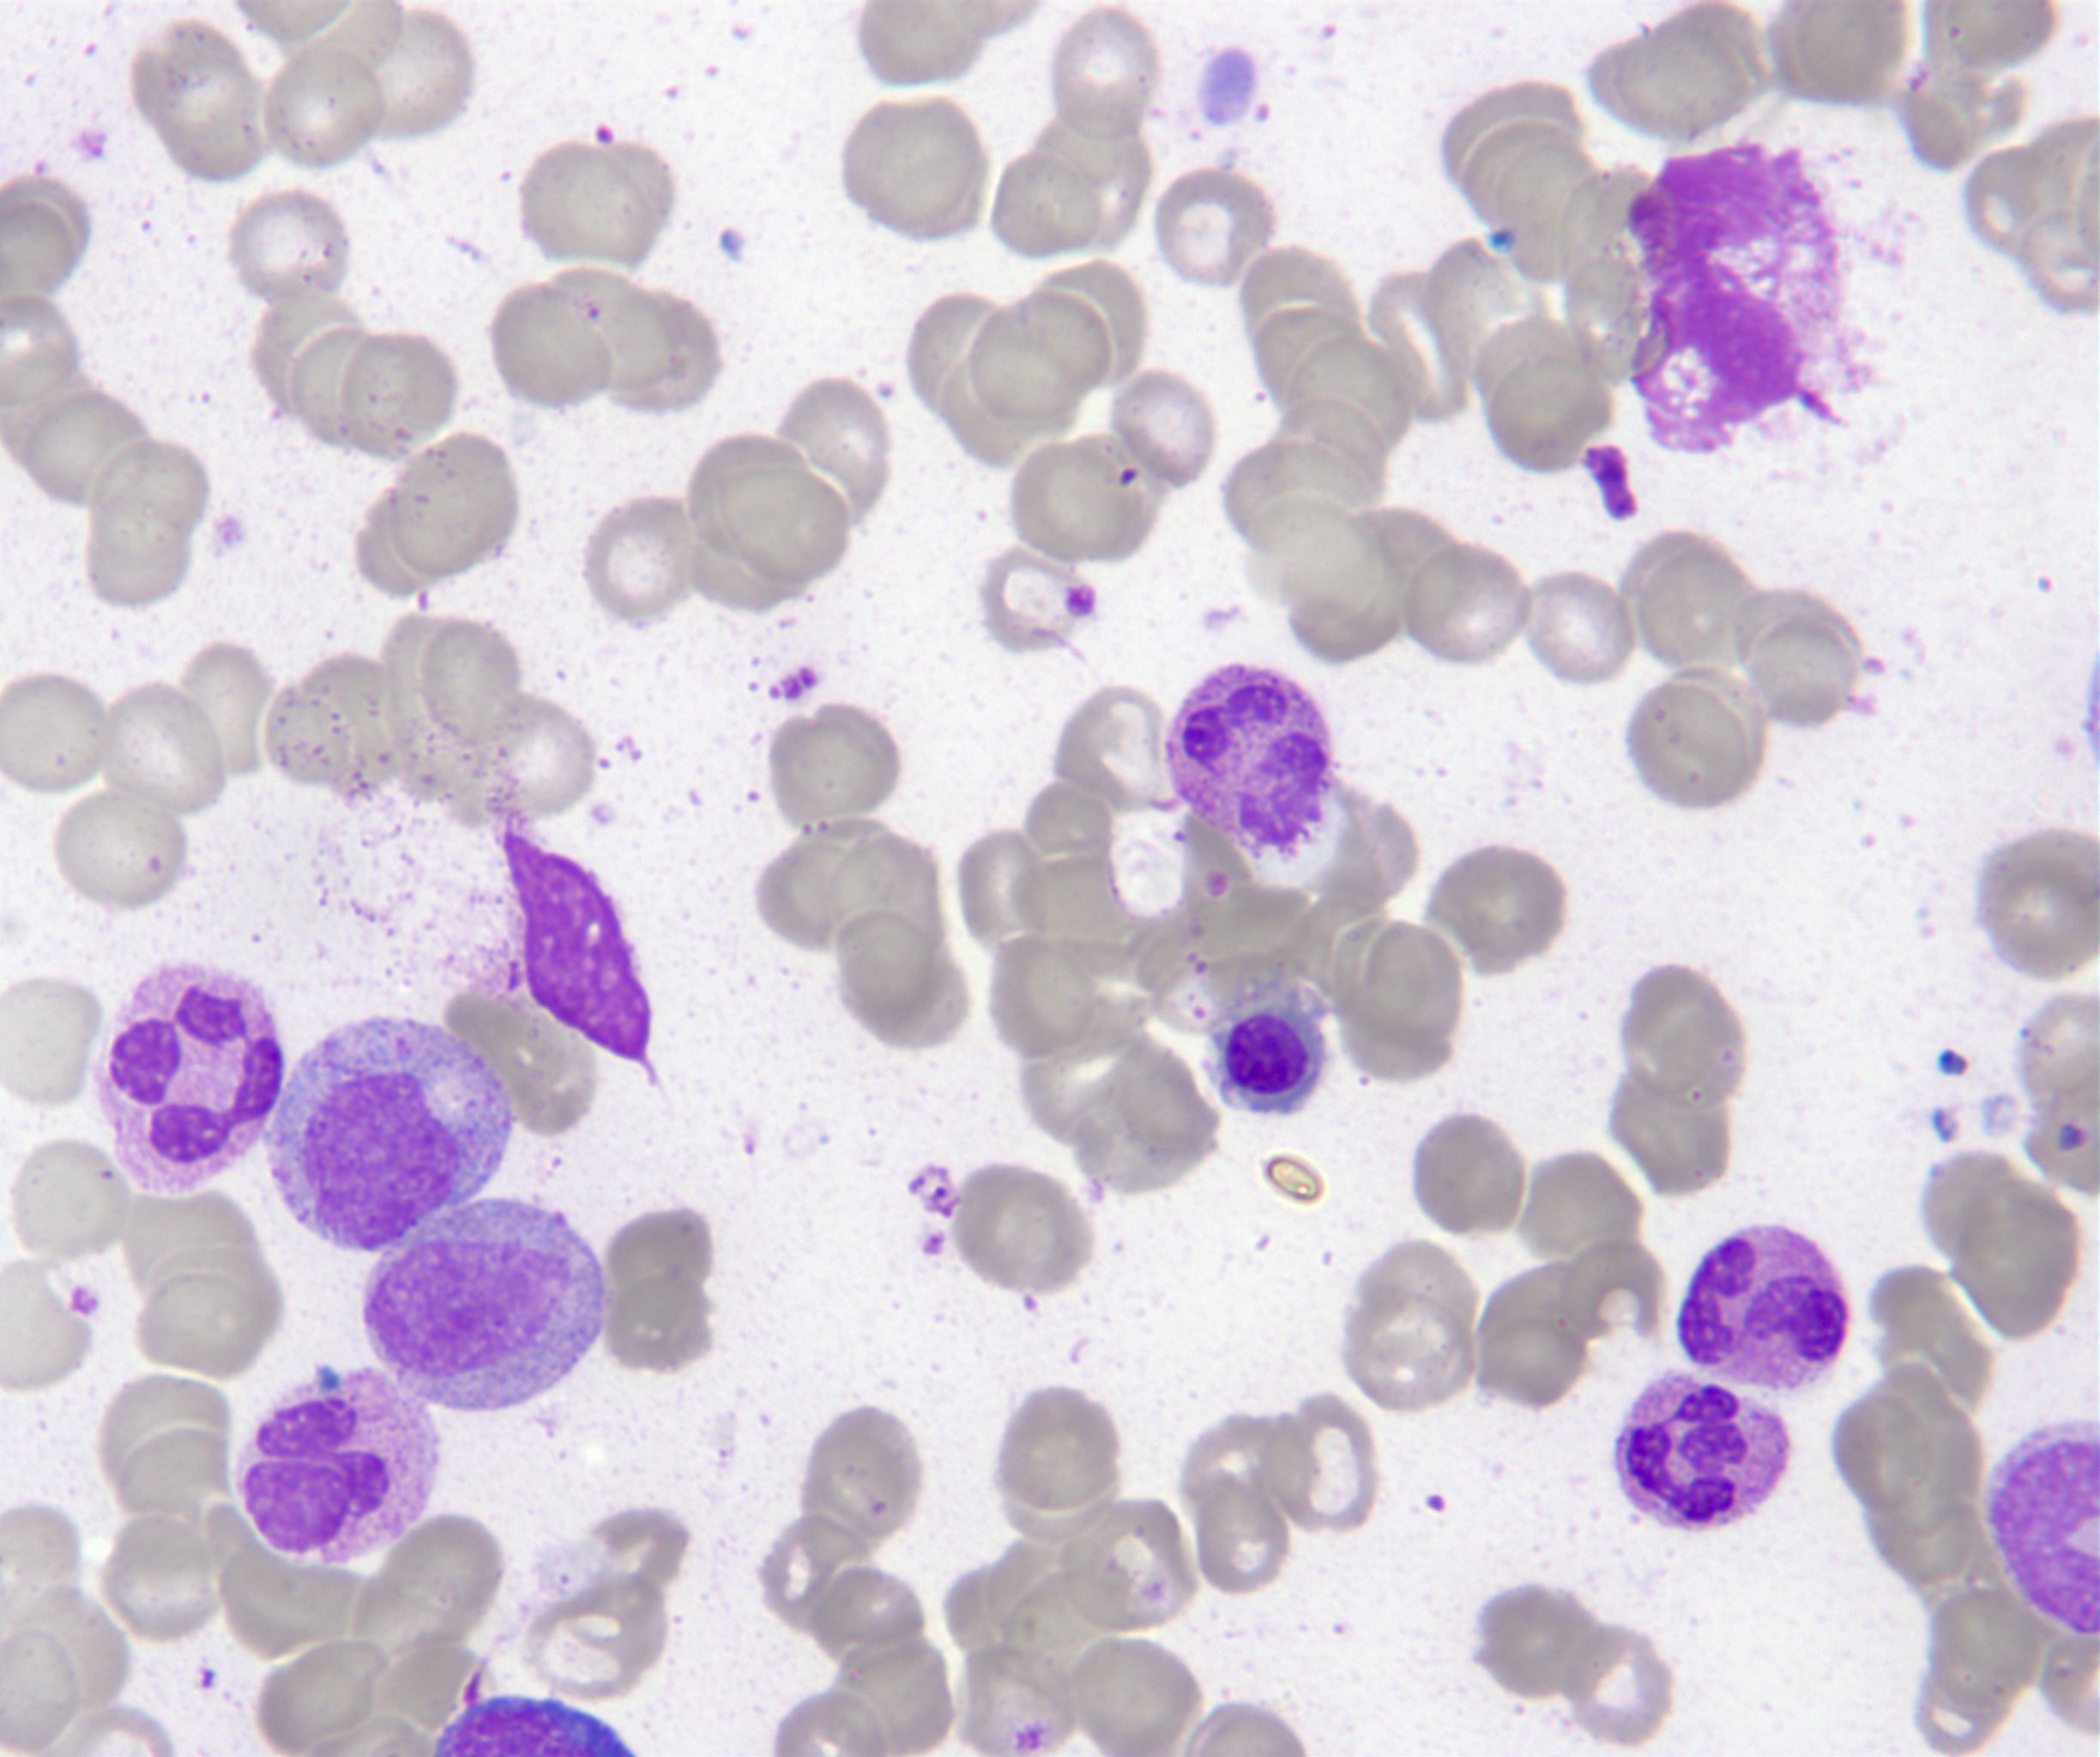24: (1209, 988, 1329, 1118)
3: (263, 1019, 509, 1253), (365, 1199, 602, 1415)
6: (94, 965, 283, 1195), (234, 1370, 440, 1563), (1165, 665, 1327, 860), (1678, 1227, 1847, 1394), (1615, 1373, 1788, 1530)
x: (1620, 147, 1847, 452), (499, 829, 659, 1084), (1981, 1417, 2100, 1638)
